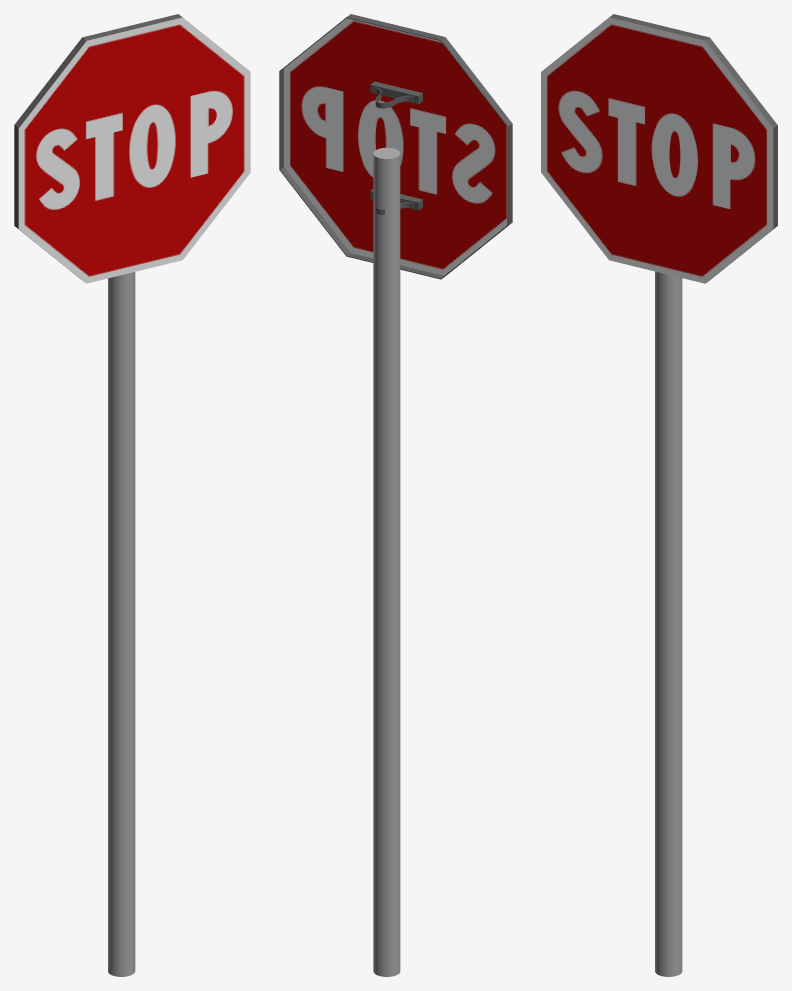
The model's file is T_STOP.dae.
The picture shows the model from 3 angles, left to right: view 1: azimuth 30°, elevation 25°; view 2: azimuth 150°, elevation 25°; view 3: azimuth 330°, elevation 25°; orthographic projection.
Parts seen in each view (by area): view 1: Sign.081, Pole.002; view 2: Sign.081, Pole.002; view 3: Sign.081, Pole.002.
Part boxes in pixels (box(x1,y1,x2,y2)): Sign.081: box(14, 14, 250, 283); Pole.002: box(108, 272, 135, 976); Sign.081: box(279, 14, 512, 279); Pole.002: box(373, 147, 400, 976); Sign.081: box(541, 14, 777, 283); Pole.002: box(655, 271, 682, 976).
Size of the model in its own units: 0.585 by 0.0869 by 2.29.
Materials: 3 (1 with a texture image).
